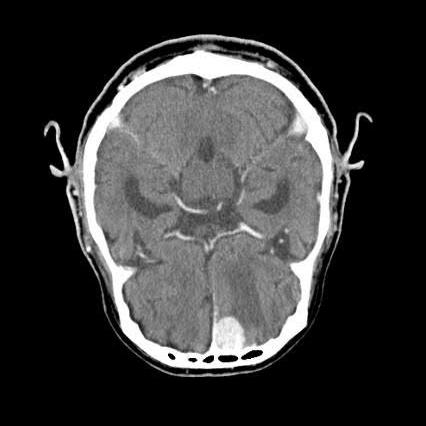Tumour-Meningioma: (207, 307, 252, 357)
